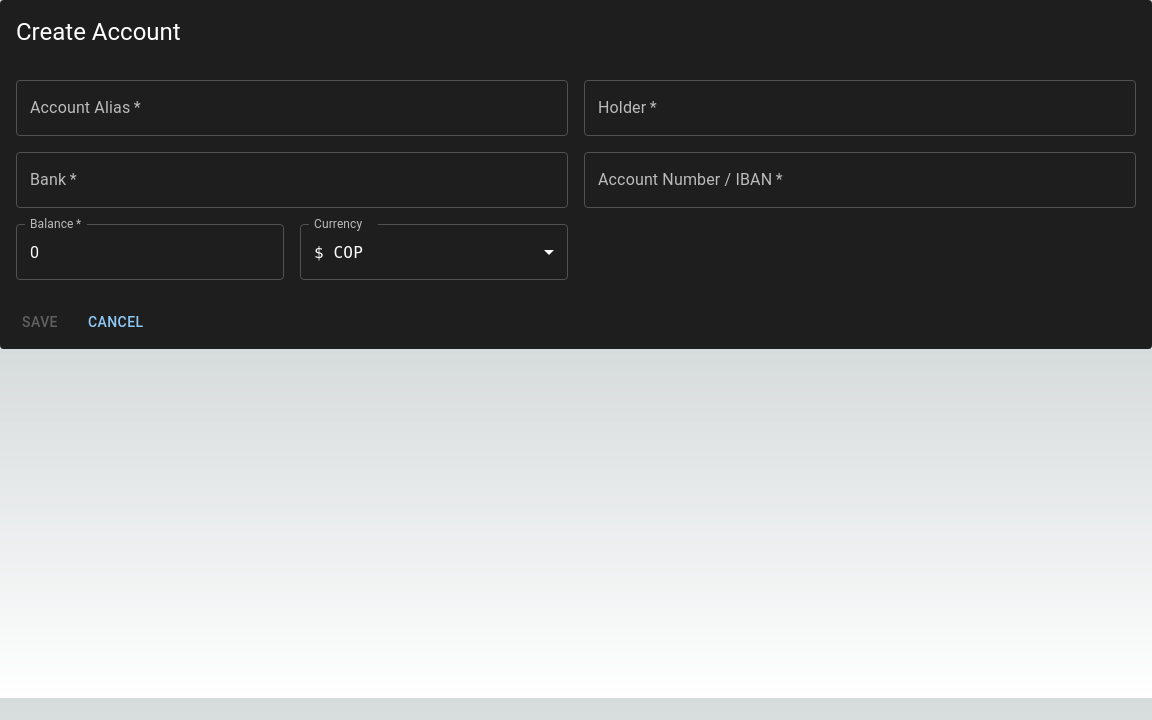
Scenario: AccountForm UI › save button is enabled when form is complete and valid
Type "Test bank" into the field labelled "Bank *". click: x=292, y=180
box: [16,152,568,208]
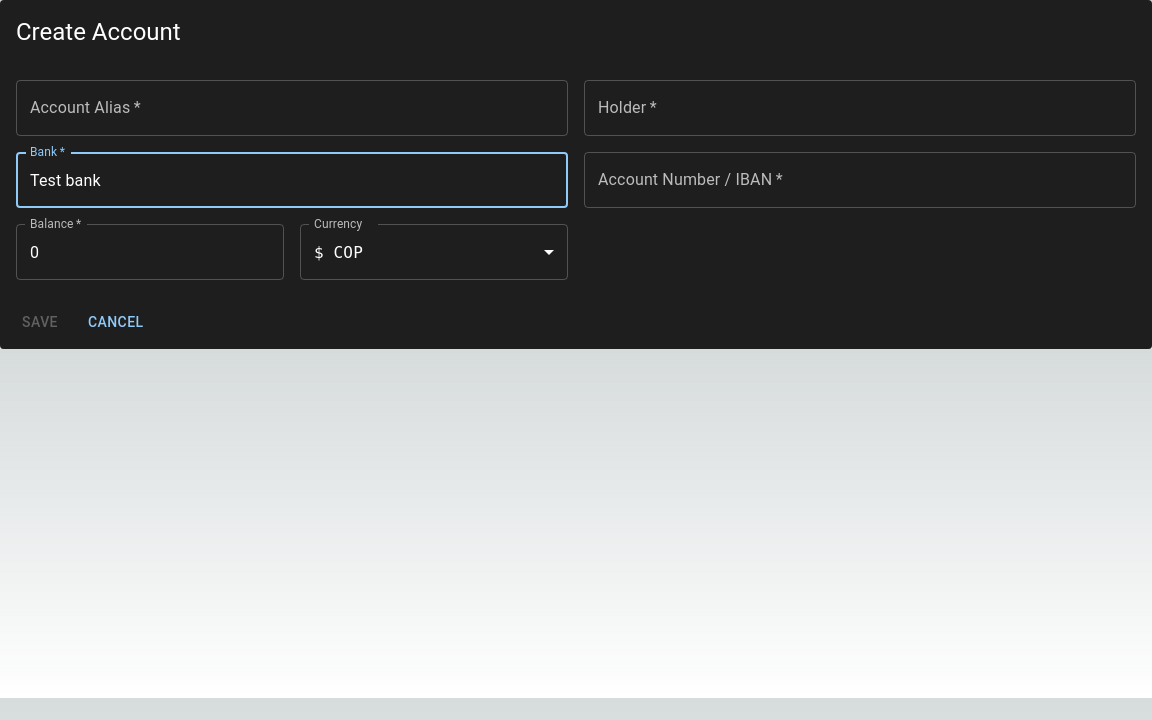
Type "My Self" into the field labelled "Holder *". click: x=860, y=108
box: [584,80,1136,136]
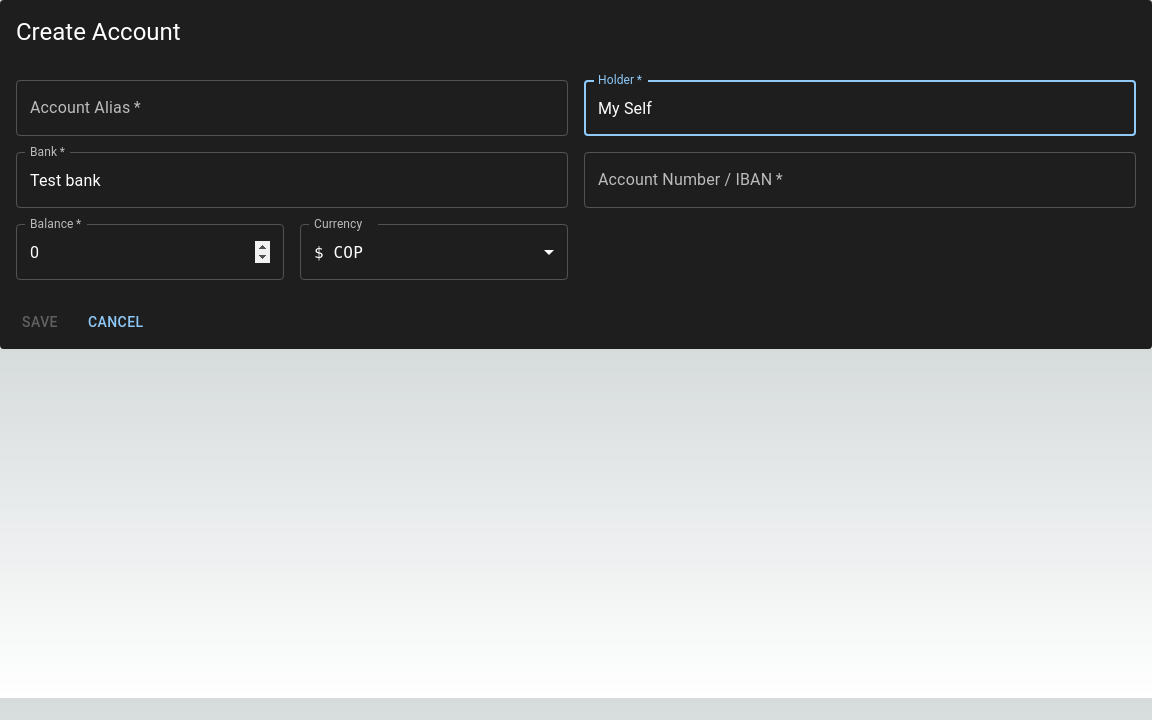
Replace the text in the number field labelled "Balance *" with "100000". click: x=150, y=252
box: [16,224,284,280]
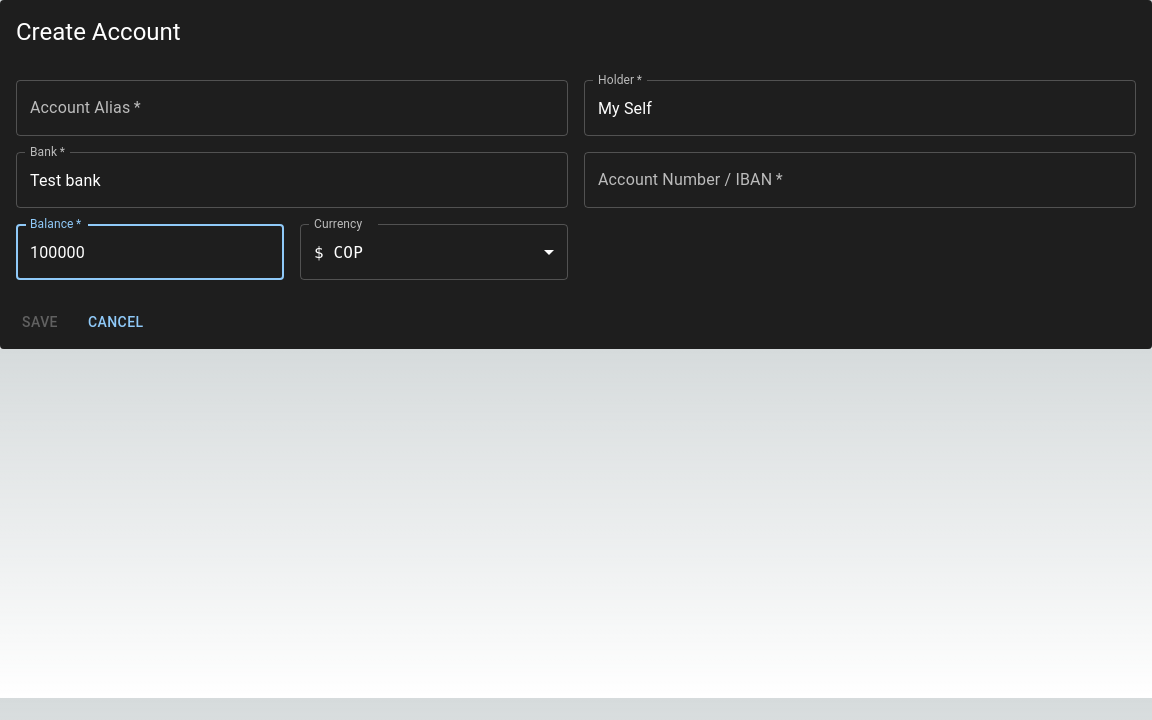
Type "1234567890" into the field labelled "Account Number / IBAN *". click: x=860, y=180
box: [584,152,1136,208]
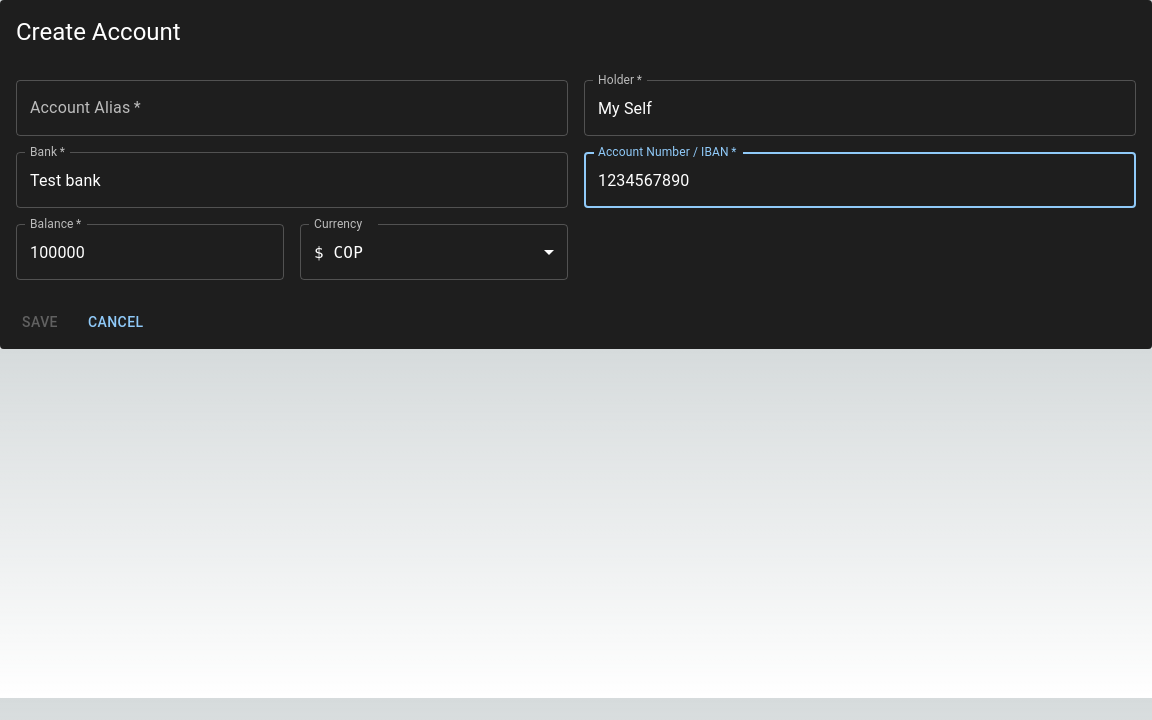
Type "Test Account" into the field labelled "Account Alias *". click: x=292, y=108
box: [16,80,568,136]
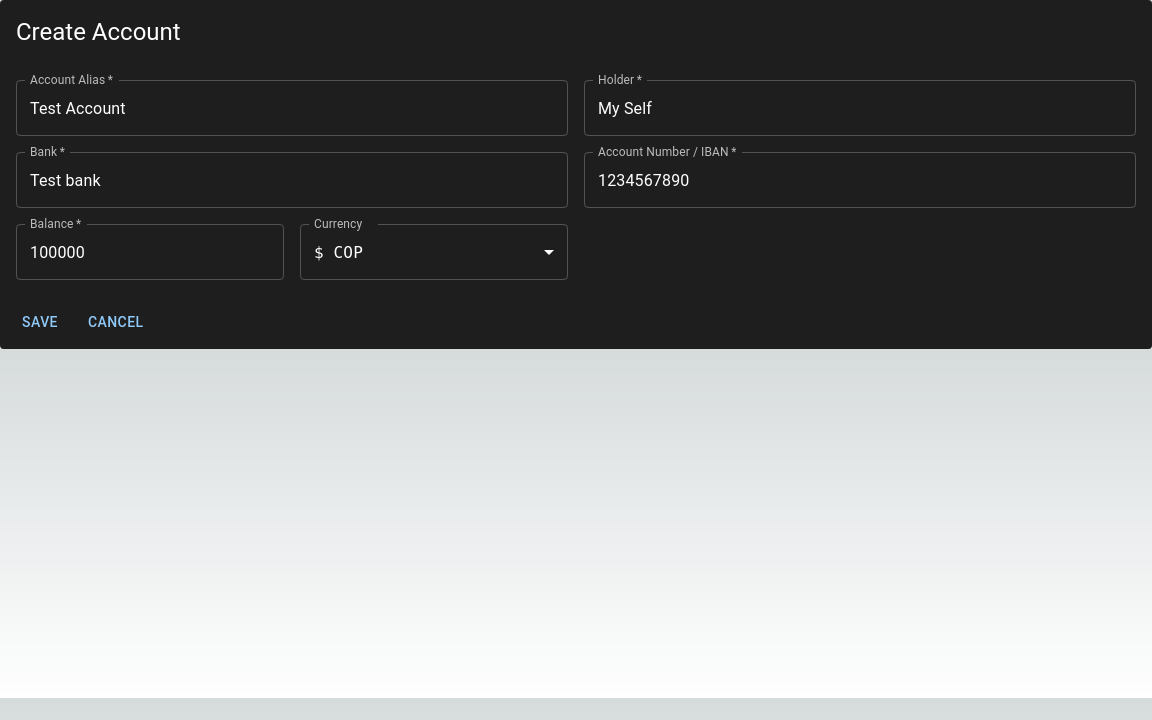
Expected: the button "Save" is enabled, [8,304,72,340]
